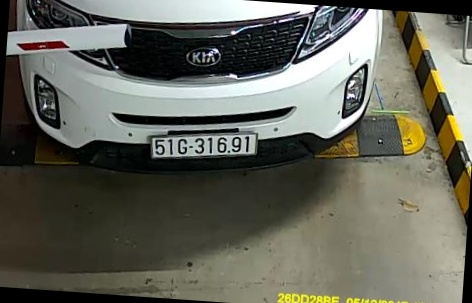plate: (149, 127, 263, 163)
